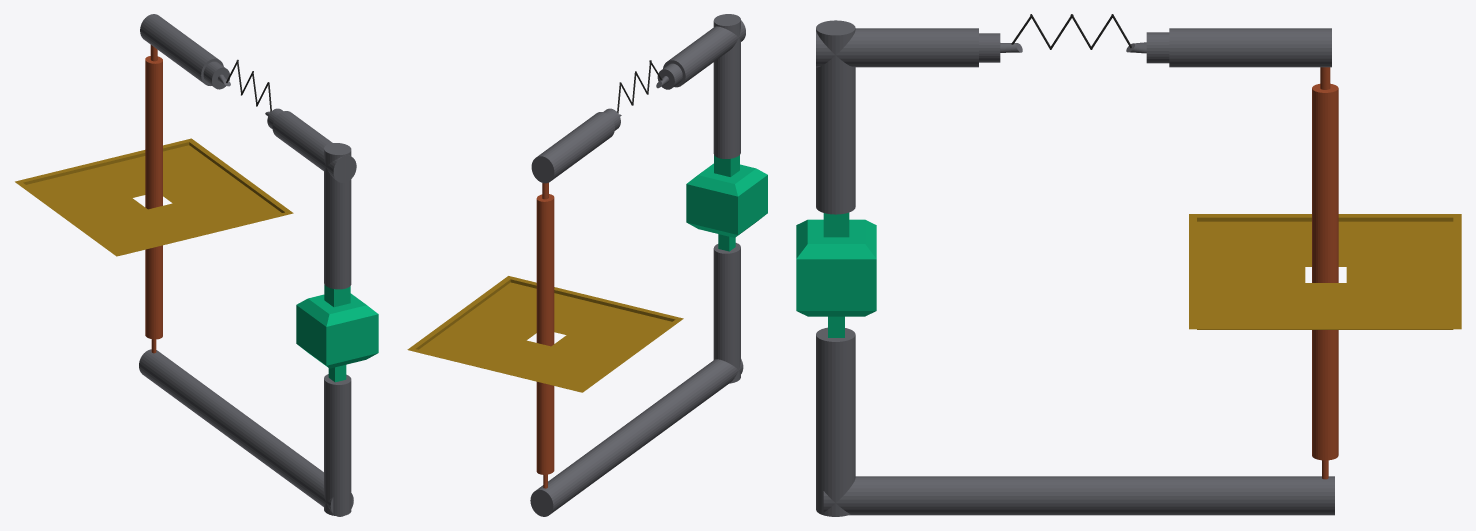
The model's file is magnetic field produced around the conductor.gltf.
3 views of the same model, side by side, from view 1: azimuth 30°, elevation 25°; view 2: azimuth 150°, elevation 25°; view 3: azimuth 270°, elevation 25° (orthographic). The views are drawn at different scales.
Visible parts, largest first — view 1: Cube; view 2: Cube; view 3: Cube.
Part boxes in pixels (box(x1,y1,x2,y2)): Cube: box(15, 14, 378, 516); Cube: box(407, 14, 767, 516); Cube: box(796, 14, 1461, 516).
Bounding box in the file's own units: 6.79 × 13.78 × 16.55.
